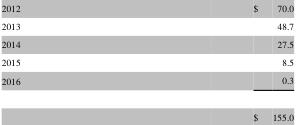table: (0, 1, 292, 122)
table column: (136, 1, 292, 122), (0, 1, 136, 122)
table row: (0, 70, 292, 97), (0, 97, 292, 122), (0, 16, 292, 34), (0, 34, 292, 52), (0, 52, 292, 70), (0, 1, 292, 16)
